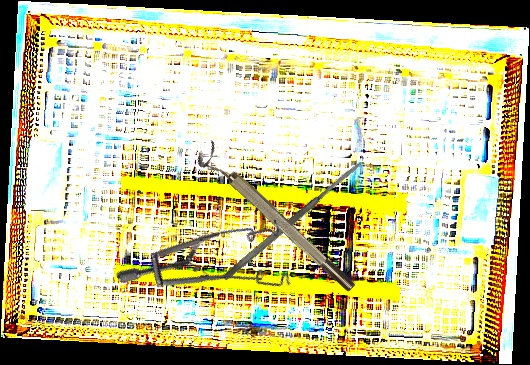Fixation Ring: (192, 139, 359, 302)
Spatula Surgical: (221, 159, 365, 282)
Speculum: (114, 179, 312, 365)
